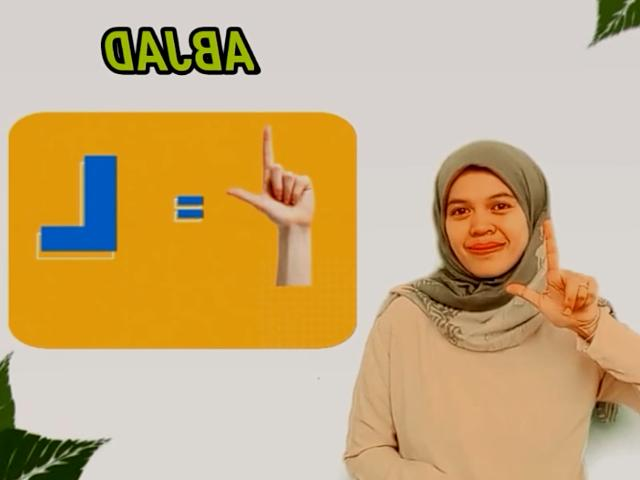L: (225, 122, 317, 294), (508, 216, 600, 330)
